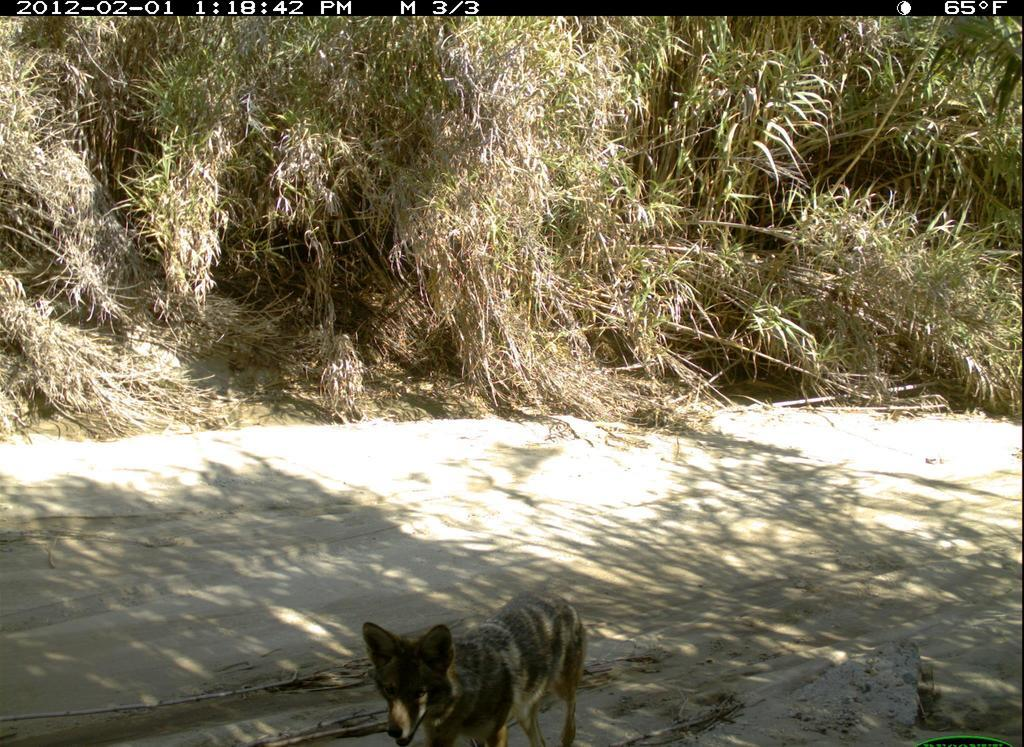coyote: (351, 589, 589, 747)
